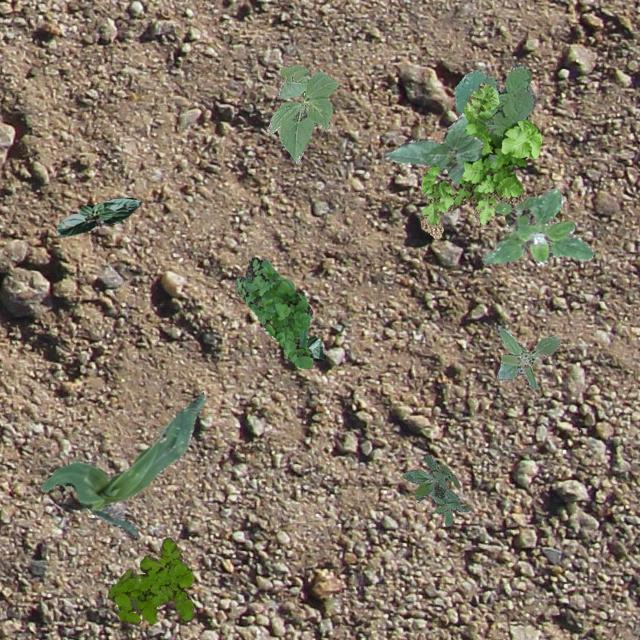crop: (40, 392, 204, 536), (384, 110, 496, 183), (266, 64, 340, 164), (56, 196, 140, 236), (262, 326, 324, 359)
weed: (420, 81, 540, 238), (481, 187, 594, 264), (235, 256, 312, 368), (108, 536, 192, 624), (454, 60, 536, 142), (400, 454, 470, 524), (496, 326, 560, 388), (478, 116, 496, 130)
